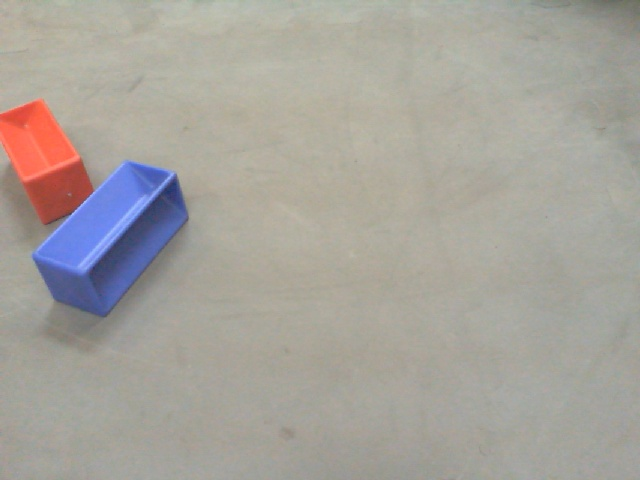BlueSample: (32, 160, 191, 314)
RedSample: (1, 96, 95, 225)
